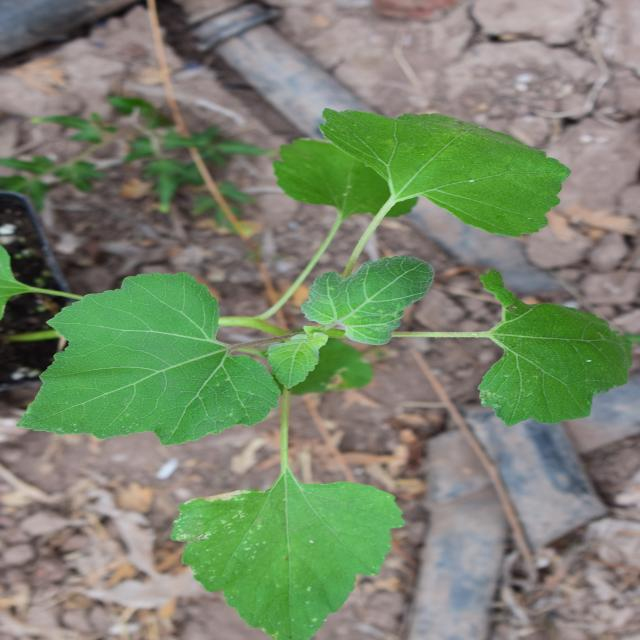cocklebur: (34, 43, 520, 617)
